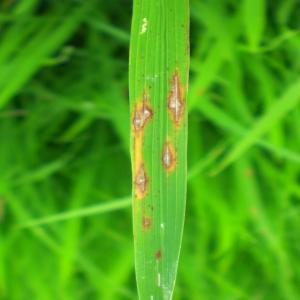1 RiceBlast: (154, 62, 202, 127), (155, 130, 183, 175), (130, 94, 158, 139), (131, 160, 152, 200)
